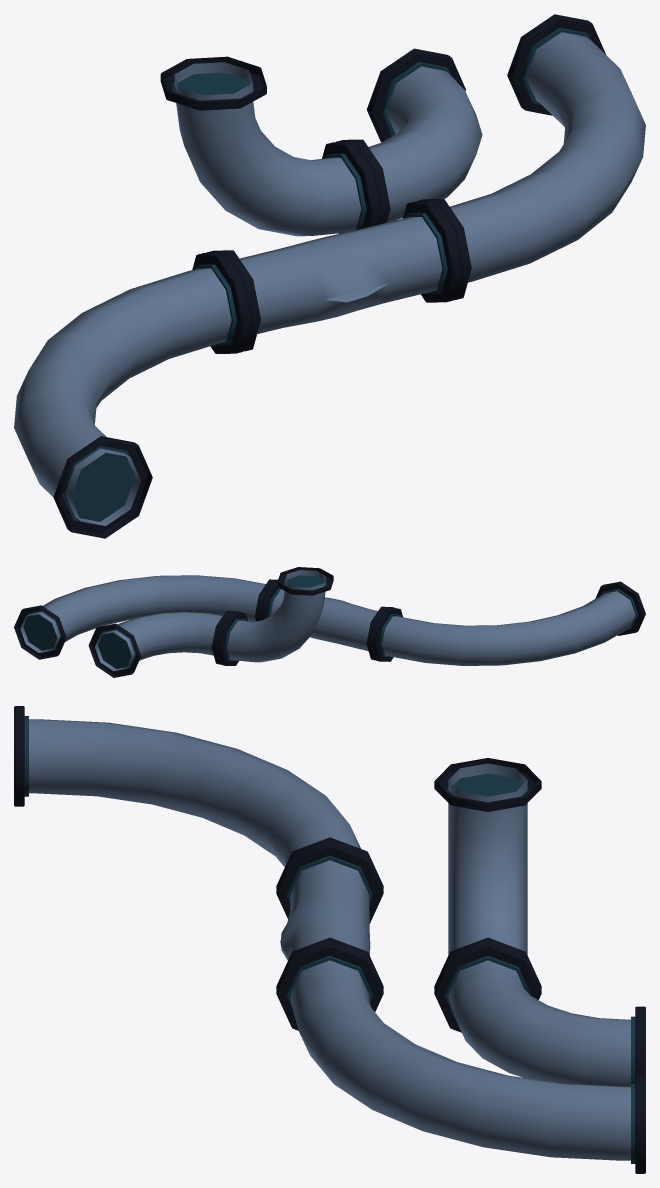
Rendered from PipeComplexSmall_A_22.fbx.
The picture shows the model from 3 angles, top to bottom: view 1: azimuth 30°, elevation 25°; view 2: azimuth 150°, elevation 25°; view 3: azimuth 270°, elevation 25°; orthographic projection. The views are drawn at different scales.
Parts seen in each view (by area): view 1: PipeComplexSmall_A_22.001; view 2: PipeComplexSmall_A_22.001; view 3: PipeComplexSmall_A_22.001.
Part boxes in pixels (<box>): PipeComplexSmall_A_22.001: <box>14,14,645,538</box>; PipeComplexSmall_A_22.001: <box>14,567,645,677</box>; PipeComplexSmall_A_22.001: <box>14,706,645,1173</box>.
Size of the model in its own units: 1.24 by 0.2678 by 0.8.
